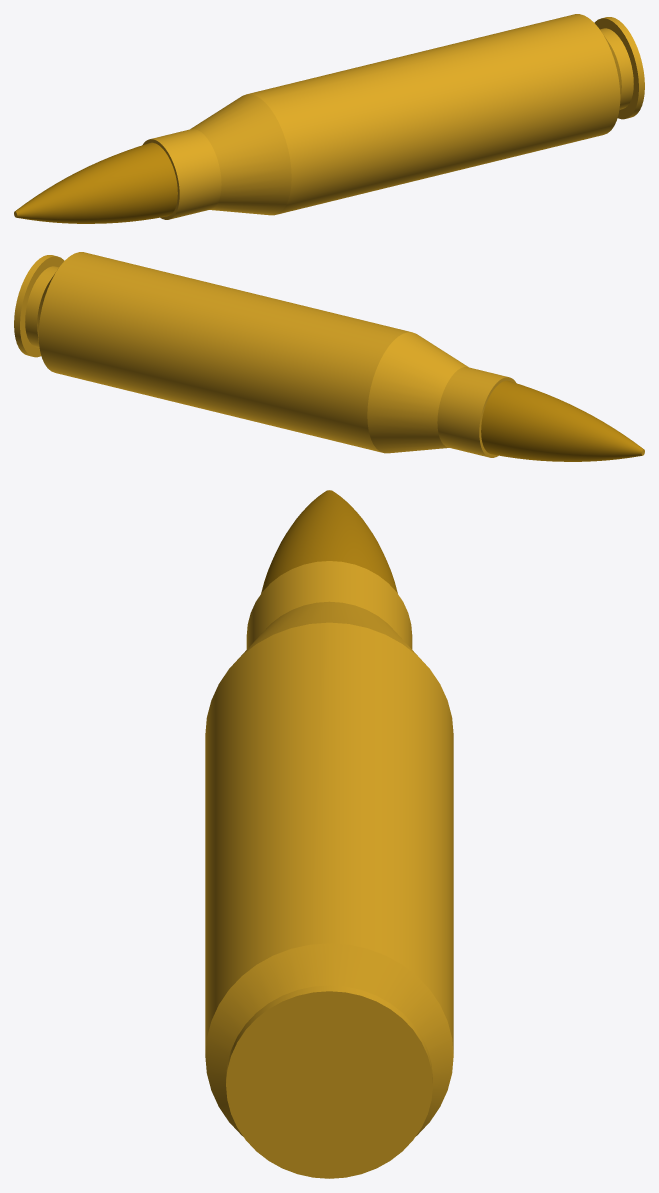
The model's file is MBullet.fbx.
3 views of the same model, one above another, from view 1: azimuth 30°, elevation 25°; view 2: azimuth 150°, elevation 25°; view 3: azimuth 270°, elevation 25° (orthographic). The views are drawn at different scales.
Visible parts, largest first — view 1: ID10, ID16, ID24; view 2: ID10, ID16, ID24; view 3: ID10, ID24, ID16.
Boxes of the visible parts, bbox=[...] form: ID10: bbox=[142, 14, 633, 219]; ID16: bbox=[15, 142, 177, 223]; ID24: bbox=[594, 17, 644, 119]; ID10: bbox=[25, 252, 516, 457]; ID16: bbox=[481, 380, 643, 461]; ID24: bbox=[14, 255, 64, 357]; ID10: bbox=[205, 561, 453, 1136]; ID24: bbox=[226, 985, 432, 1178]; ID16: bbox=[261, 490, 397, 593].
Bounding box in the file's own units: 6.31 × 1.12 × 1.12.
